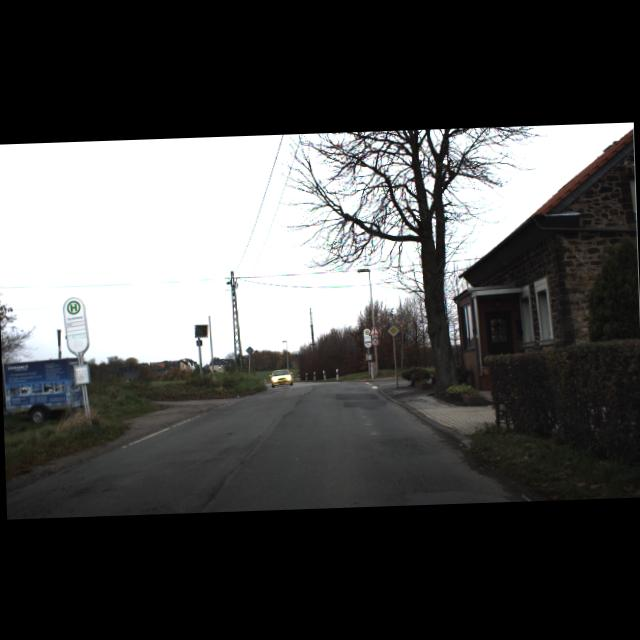danger: (368, 324, 380, 334)
other: (386, 323, 399, 336)
prohibitory: (370, 336, 380, 346)
